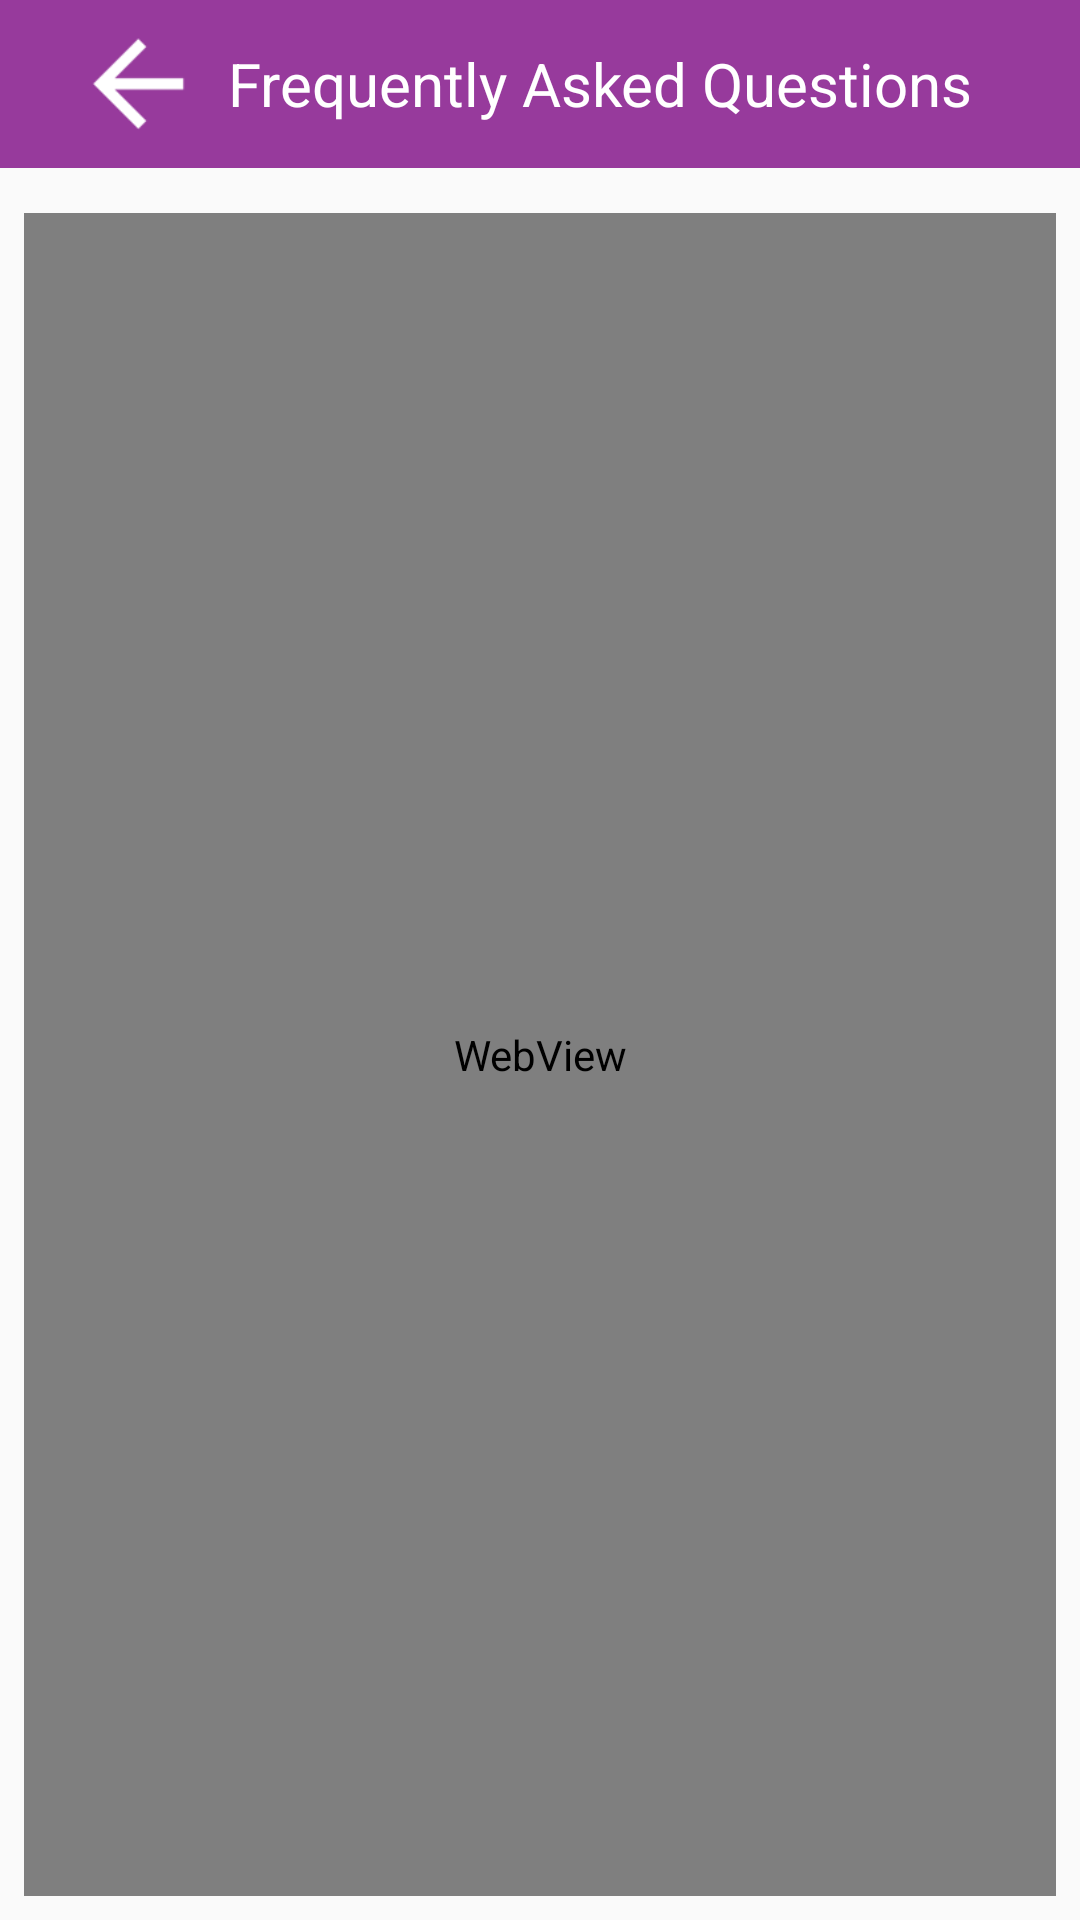

Named icons in this screenshot (1080px x 1920px) and their bounding boxes, (x1, y1, x2, y2):
arrow: (93, 38, 184, 129)
